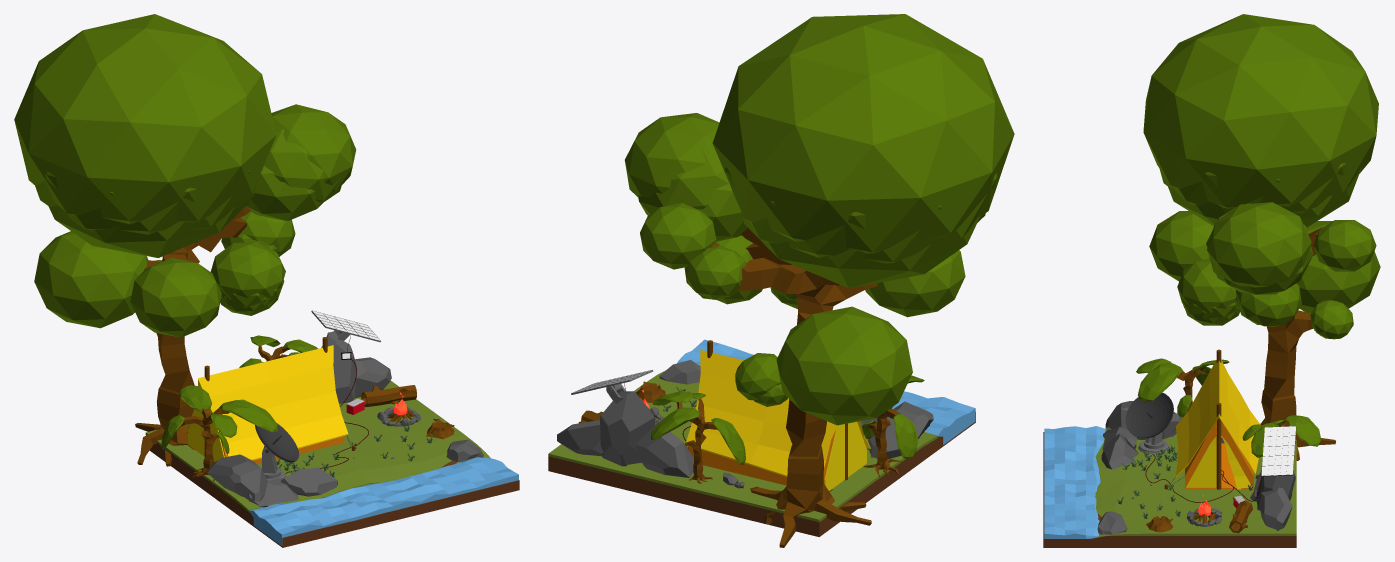
Rendered from camp_export4.glb.
The picture shows the model from 3 angles, left to right: view 1: azimuth 30°, elevation 25°; view 2: azimuth 150°, elevation 25°; view 3: azimuth 270°, elevation 25°; orthographic projection. The views are drawn at different scales.
Visible parts, largest first — view 1: Big tree leaves, Rock2.007, Tent-main.001, Rock2.003, Big Tree, Rock_1.004, Rock2.005, Small Tree Leaves 1, Rock2.001, Rock2.008, Satellite Dish, Small Tree 1 (+5 smaller); view 2: Big tree leaves, Big Tree, Tent-main.001, Rock2.007, Rock2.001, Rock2.005, Rock2.003, Rock2.008, Small Tree Leaves 2, Tent-main.002, Rock_1.004, Tent-main (+4 smaller); view 3: Big tree leaves, Rock2.007, Rock2.003, Tent-main.001, Big Tree, Rock2.005, Rock_1.004, Rock2.001, Small Tree Leaves 1, Satellite Dish, Tent-main, Cube.004 (+7 smaller).
Part boxes in pixels (x1,y1,x2,y2): Big tree leaves: (14,14,356,337); Rock2.007: (145,380,490,511); Tent-main.001: (185,345,348,460); Rock2.003: (249,456,518,545); Big Tree: (135,206,251,466); Rock_1.004: (207,454,337,507); Rock2.005: (149,445,519,547); Small Tree Leaves 1: (161,385,277,453); Rock2.001: (321,331,391,403); Rock2.008: (146,435,519,539); Satellite Dish: (255,423,299,462); Small Tree 1: (181,408,229,483); Big tree leaves: (624,14,1014,425); Big Tree: (710,227,877,547); Tent-main.001: (686,350,870,476); Rock2.007: (548,371,937,522); Rock2.001: (557,391,744,488); Rock2.005: (548,412,975,536); Rock2.003: (677,339,975,444); Rock2.008: (548,370,941,527); Small Tree Leaves 2: (651,391,745,464); Tent-main.002: (824,422,866,490); Rock_1.004: (863,401,933,458); Tent-main: (688,430,835,485); Big tree leaves: (1143,14,1380,339); Rock2.007: (1095,429,1296,537); Rock2.003: (1044,426,1105,538); Tent-main.001: (1175,360,1260,477); Big Tree: (1260,227,1335,460); Rock2.005: (1043,539,1296,547); Rock_1.004: (1101,401,1182,469); Rock2.001: (1250,470,1295,530); Small Tree Leaves 1: (1136,358,1229,416); Satellite Dish: (1125,392,1173,438); Tent-main: (1185,421,1253,488); Cube.004: (1261,426,1295,475).
Size of the model in its own units: 12.55 by 14.44 by 10.65.
